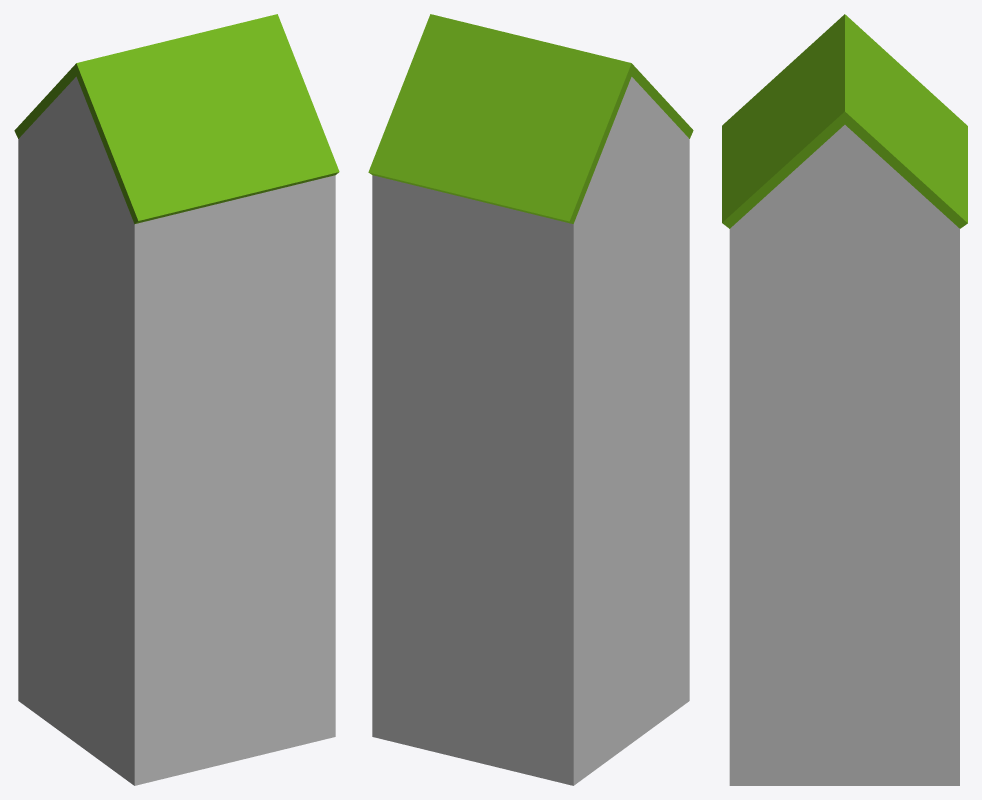
Rendered from house_2.fbx.
3 views of the same model, side by side, from view 1: azimuth 30°, elevation 25°; view 2: azimuth 150°, elevation 25°; view 3: azimuth 270°, elevation 25° (orthographic).
Parts seen in each view (by area): view 1: Cube.010; view 2: Cube.010; view 3: Cube.010.
Boxes of the visible parts, x1,y1,x2,y2 form: Cube.010: [14, 14, 339, 785]; Cube.010: [368, 14, 693, 785]; Cube.010: [722, 14, 967, 785].
Size of the model in its own units: 47.33 by 153 by 50.53.
